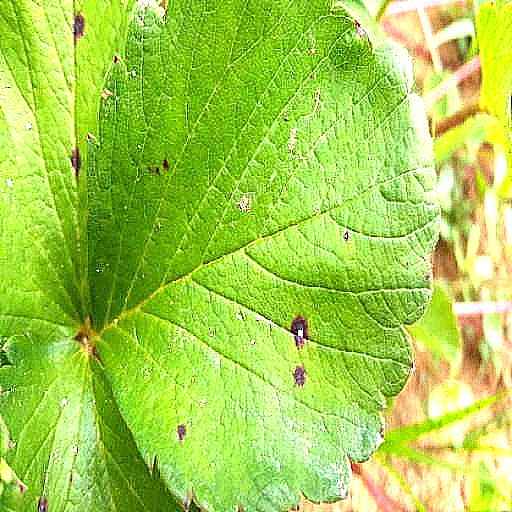Leaf Spot: (85, 0, 443, 511), (0, 334, 186, 511)
